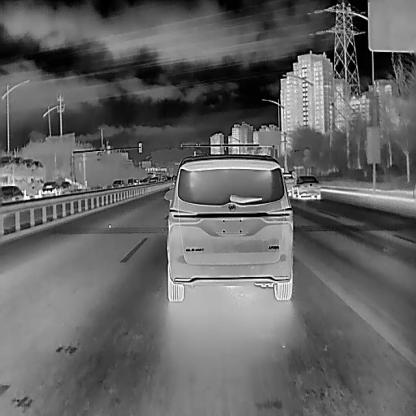car: (164, 155, 294, 302), (0, 152, 44, 200), (291, 175, 321, 199), (0, 182, 23, 203), (280, 173, 296, 195), (42, 180, 58, 195), (111, 178, 124, 188), (127, 177, 139, 185)
